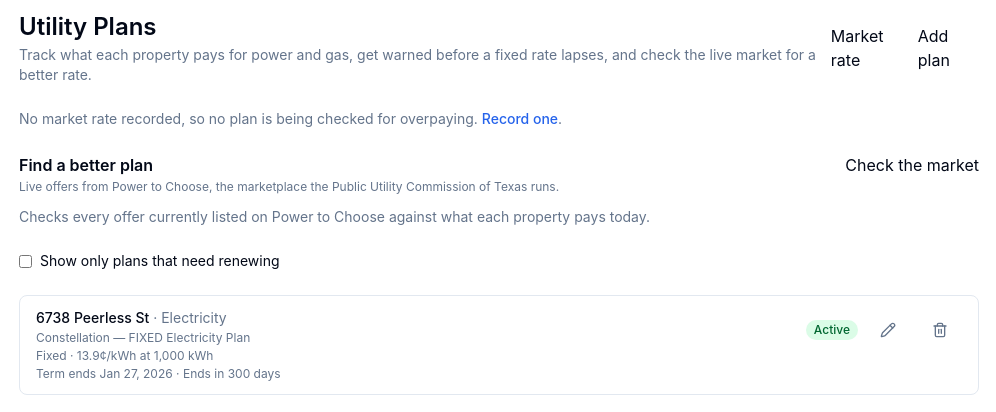
UtilityPlans — needs-renewing filter › says nothing needs renewing when the filter empties the list
The width and height of the screenshot is (996, 412).
Click the checkbox with test id "utility-plans-expiring-toggle": {"x": 26, "y": 261} [19, 254, 32, 268]
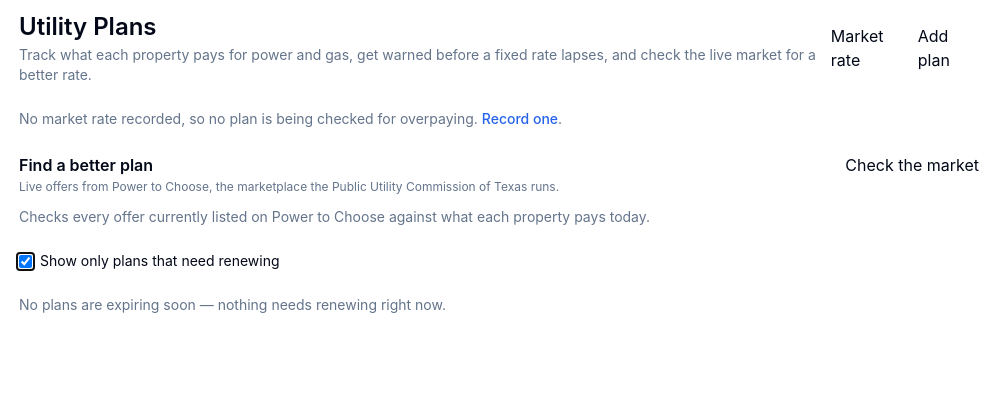
expect the text with test id "utility-plans-empty" shows "No plans are expiring soon": met, box [19, 296, 446, 313]
